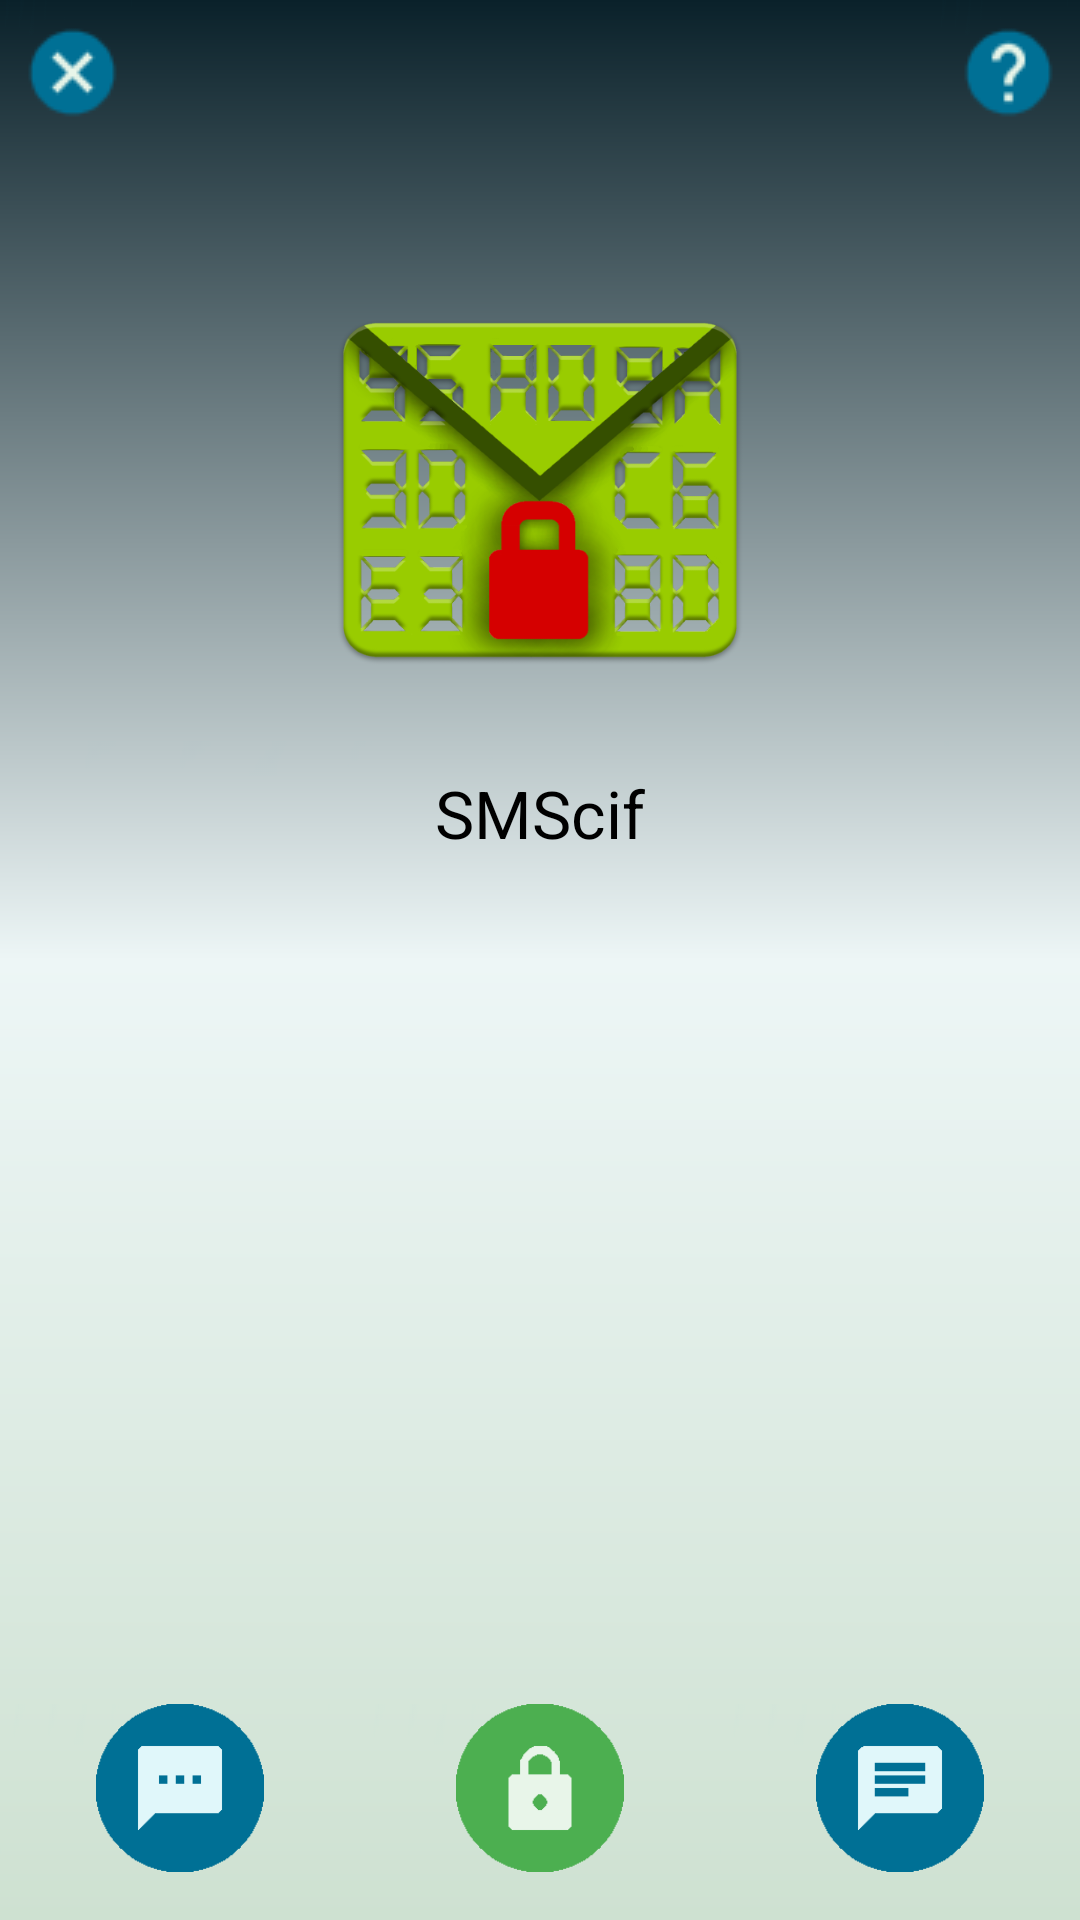

Icon click points for this 1080x1920 phone screenshot, format (x=x, y=y):
Encrypt Stored SMS: (x=540, y=1788)
Exit: (x=72, y=57)
Help: (x=1008, y=57)
New SMS: (x=180, y=1788)
Open SMS: (x=900, y=1788)
